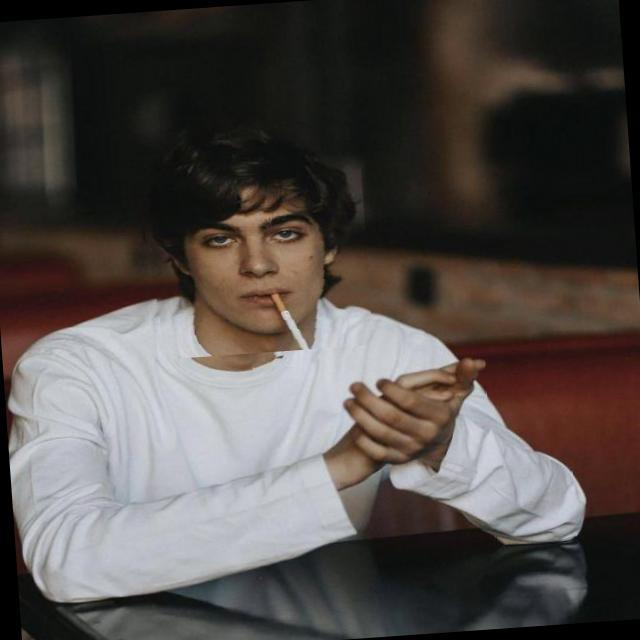cigarette: (246, 280, 306, 369)
